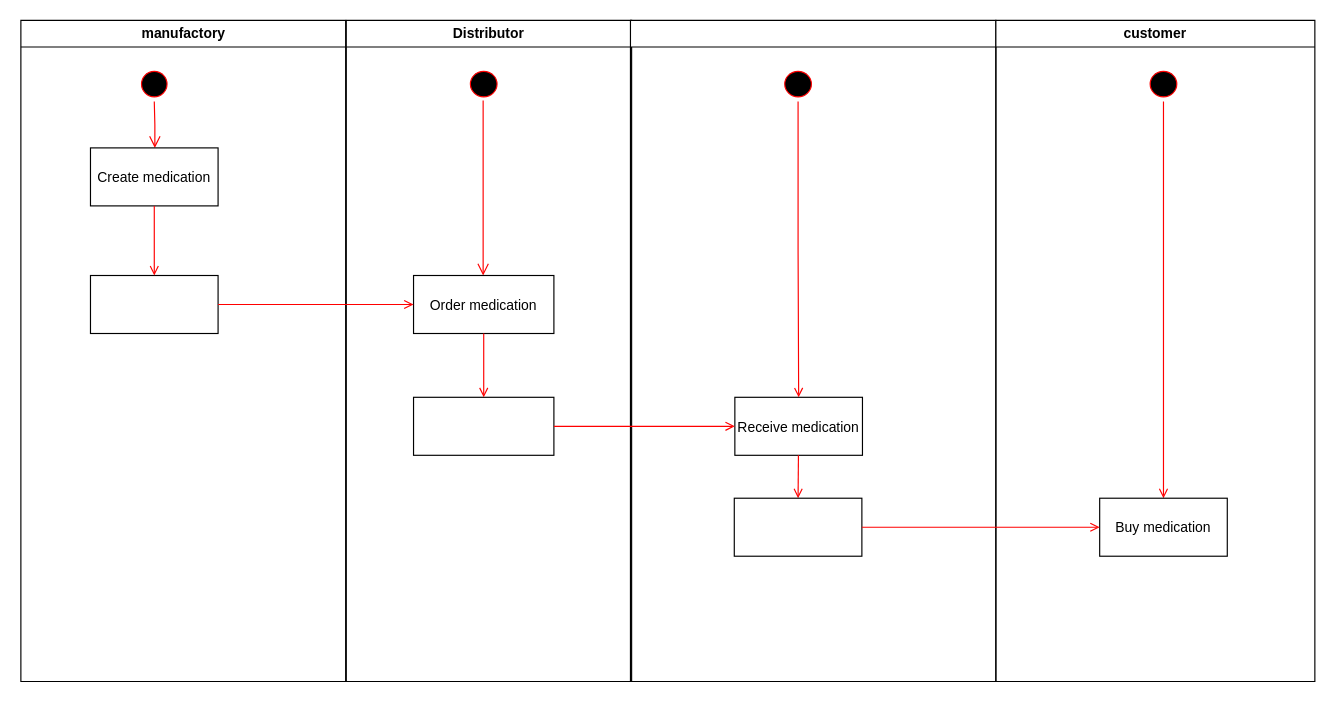
Some shapes in this 1335 by 702 pixel diagram are drawn without their labels. Here are the shapes that lost their labels. From the top down, the box of each, then its label:
(89, 274, 218, 334): Ship medication
(629, 19, 996, 682): Provider
(412, 396, 554, 455): Distribute medication
(733, 497, 862, 556): Sell medication
